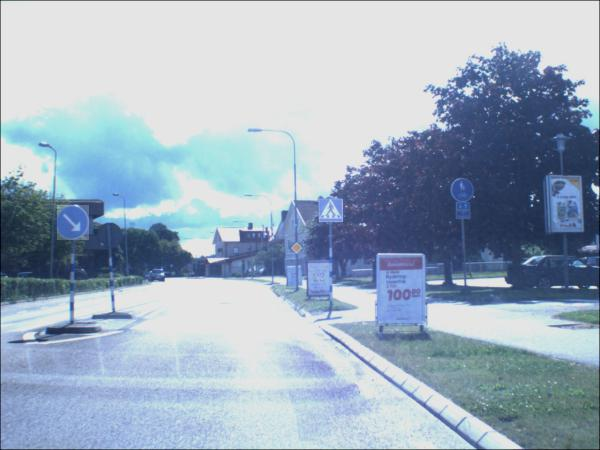PASS_RIGHT_SIDE: (58, 206, 91, 242)
PEDESTRIAN_CROSSING: (320, 200, 345, 224)
PRIORITY_ROAD: (291, 243, 305, 255)
